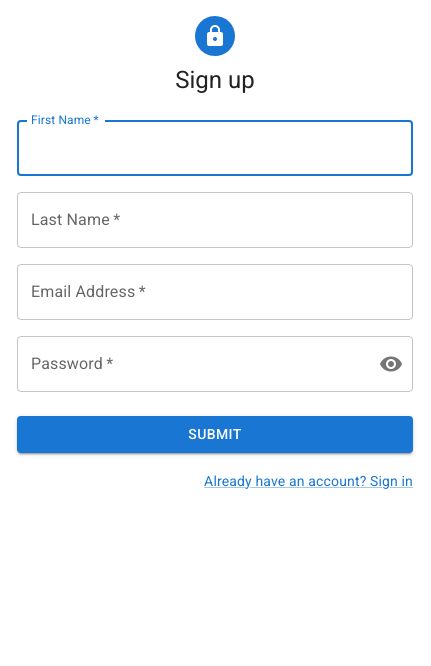
Scenario: input password number
Type "123" into the password field labelled "Password *" at point(190, 364), box top-left (17, 336), bottom-right (363, 392)
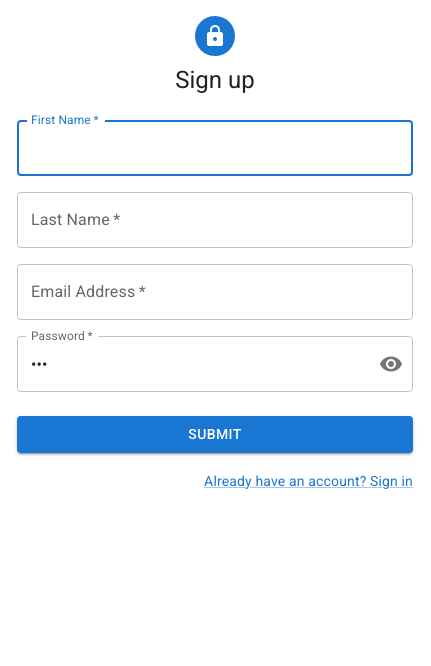
Click the button "Submit" at point(215, 434), box top-left (17, 416), bottom-right (413, 452)
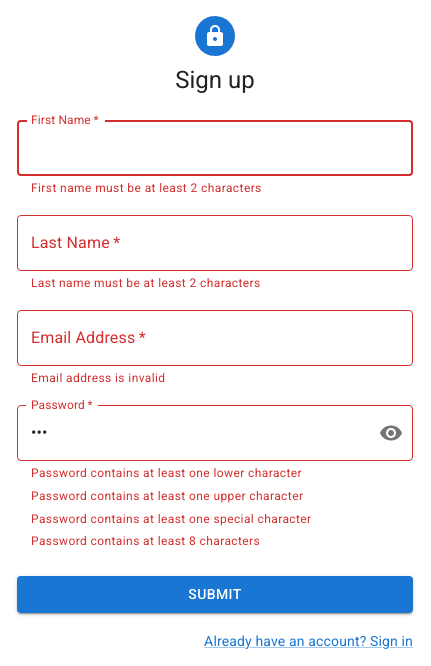
Result: the text "First name must be at least 2 characters" is shown at top-left (31, 181), bottom-right (262, 195)
Result: the text "Last name must be at least 2 characters" is shown at top-left (31, 276), bottom-right (261, 290)
Result: the text "Email address is invalid" is shown at top-left (31, 371), bottom-right (166, 385)
